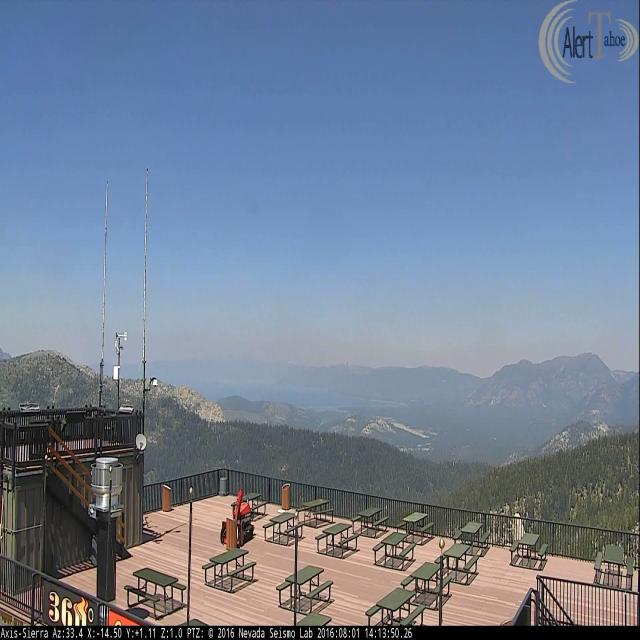smoke: (319, 417, 325, 427)
